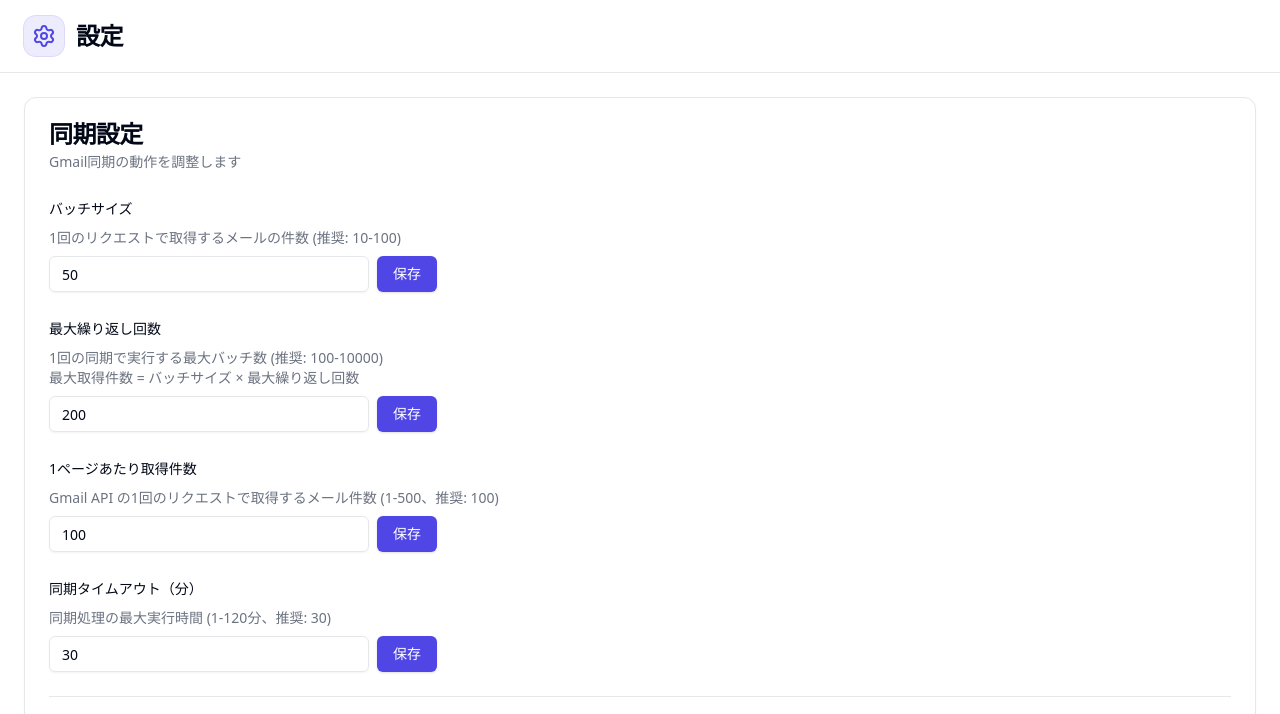
Test: Settings › handleSaveMaxIterations › saves max iterations successfully
The image size is (1280, 714).
Expected: the number field with id "max-iterations" holds "200", [49, 396, 369, 432]
Step 1. Click the button with aria-label "最大繰り返し回数を保存" → (407, 414), box [377, 396, 437, 432]
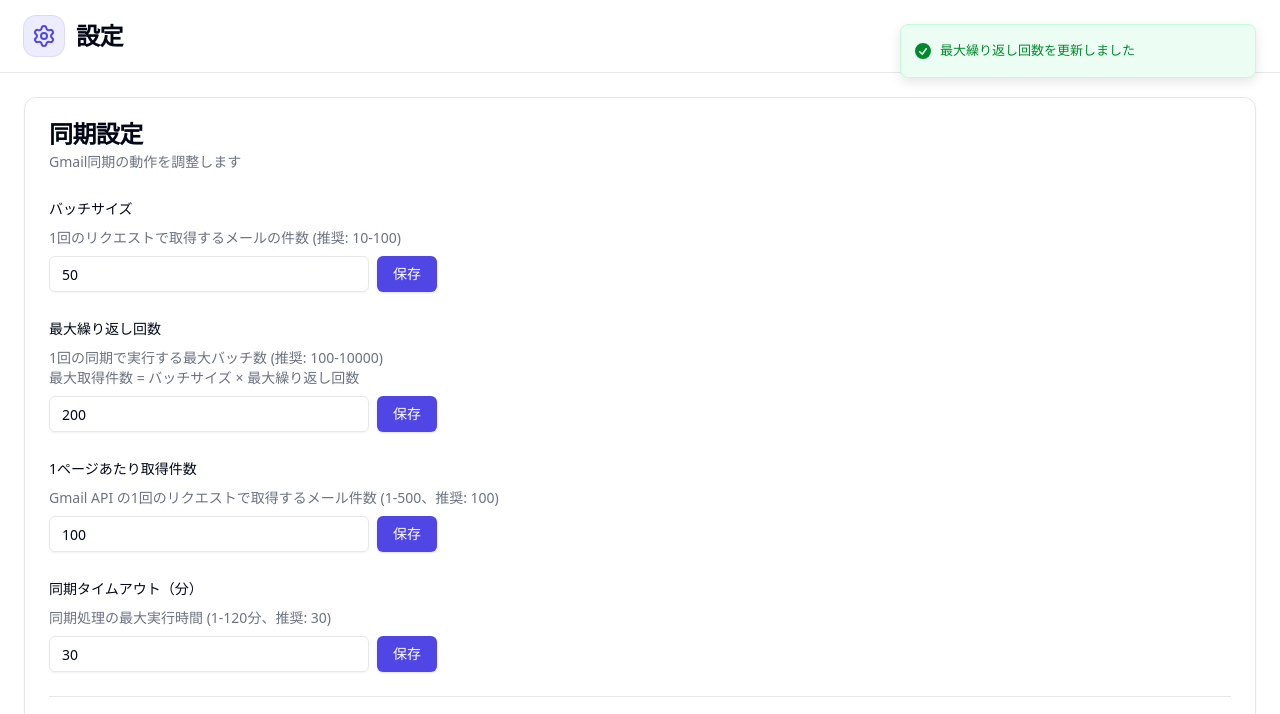
Expected: the text "最大繰り返し回数を更新しました" is shown, [940, 41, 1135, 60]
